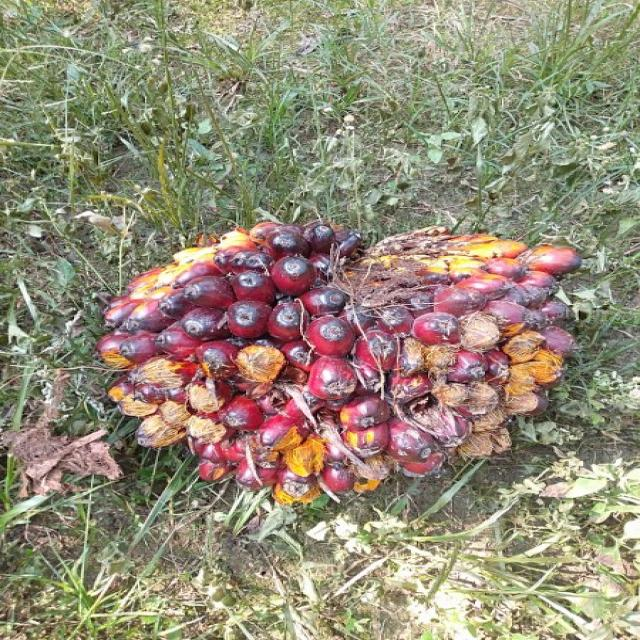fraksi 1: (107, 217, 574, 494)
